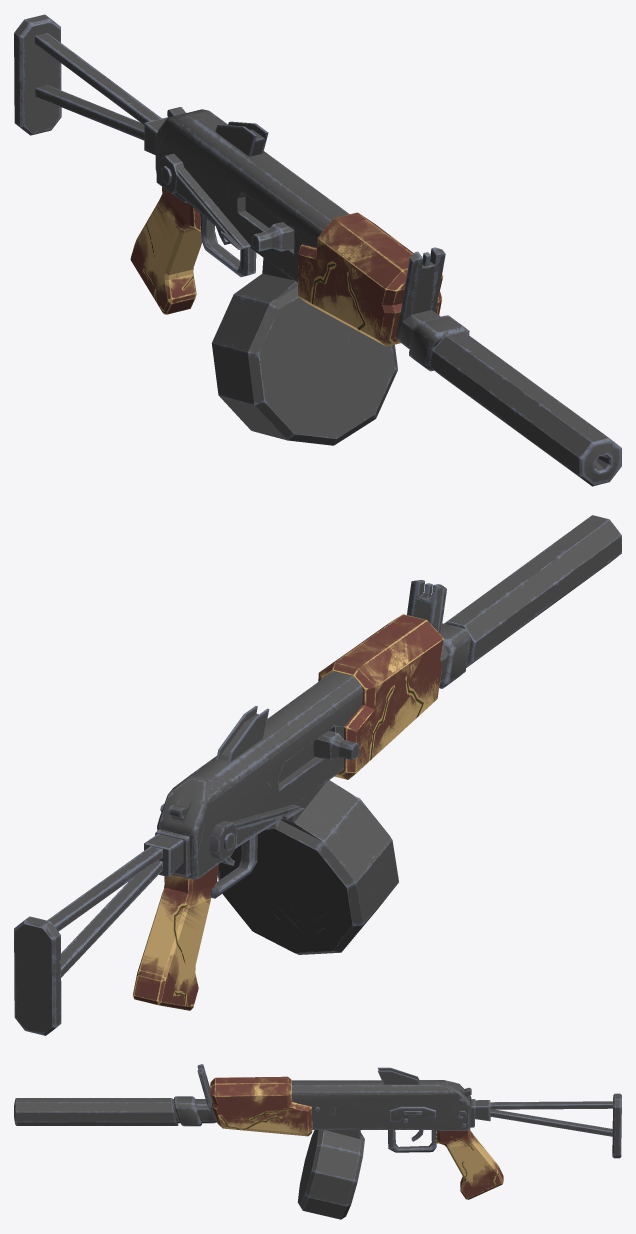
The model's file is assult_gun.glb.
3 renders of one model, top to bottom at view 1: azimuth 30°, elevation 25°; view 2: azimuth 150°, elevation 25°; view 3: azimuth 270°, elevation 25°, orthographic. The views are drawn at different scales.
Parts seen in each view (by area): view 1: Main, Mag_Big, Sillencer, wrap, Aim, Spanner; view 2: Main, Mag_Big, wrap, Sillencer, Aim, Spanner; view 3: Main, Mag_Big, Sillencer, wrap, Aim.
Part boxes in pixels (x1,y1,x2,y2): Main: (130,107,469,371); Mag_Big: (211,258,397,445); Sillencer: (429,331,621,486); wrap: (14,14,167,170); Aim: (215,121,268,156); Spanner: (252,222,293,251); Main: (133,580,470,1010); Mag_Big: (218,780,398,954); wrap: (14,829,190,1035); Sillencer: (444,515,621,667); Aim: (216,706,269,762); Spanner: (313,731,359,760); Main: (172,1064,503,1199); Mag_Big: (297,1130,364,1219); Sillencer: (14,1098,178,1125); wrap: (470,1093,621,1158); Aim: (378,1067,419,1084).
Bounding box in the file's own units: 1.9 × 3.54 × 13.09.
Materials: 2 (2 with a texture image).
